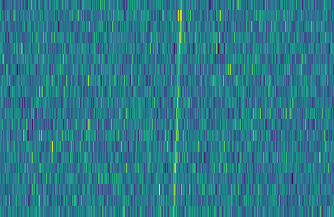signal: (168, 0, 185, 217)
